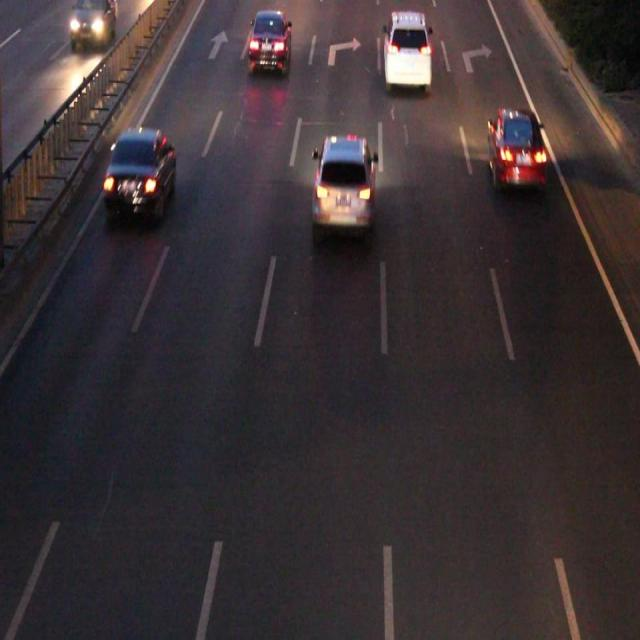car: (106, 128, 175, 216), (314, 135, 372, 226), (487, 112, 545, 183), (382, 13, 430, 85), (248, 14, 290, 69)
